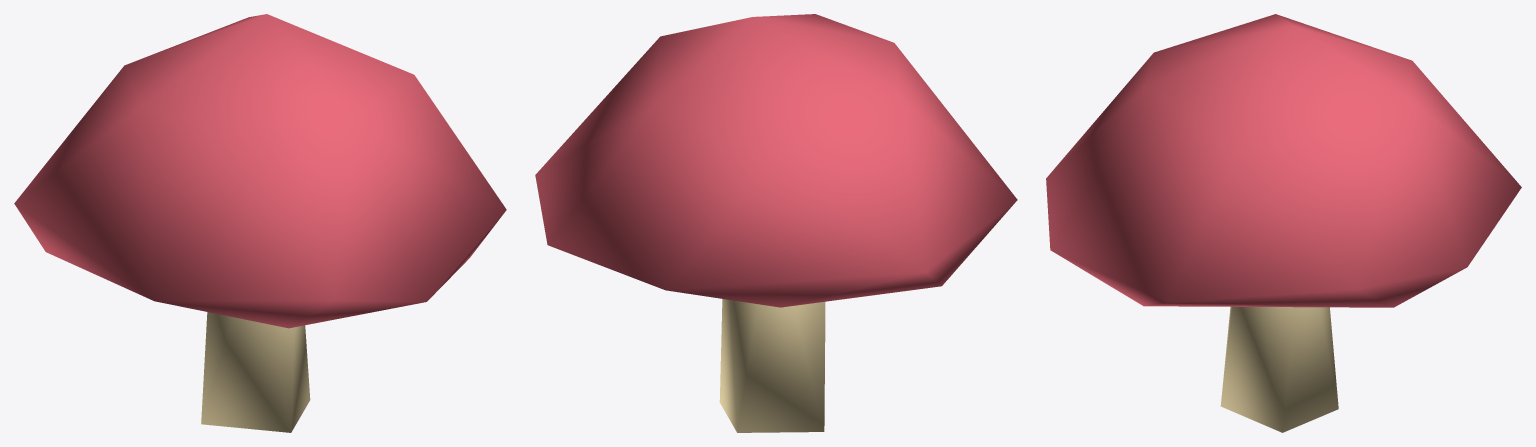
File: Mushroom_5.fbx
3 renders of one model, left to right at view 1: azimuth 30°, elevation 25°; view 2: azimuth 150°, elevation 25°; view 3: azimuth 270°, elevation 25°, orthographic. The views are drawn at different scales.
Visible parts, largest first — view 1: Mushroom_5; view 2: Mushroom_5; view 3: Mushroom_5.
Part boxes in pixels (x1,y1,x2,y2): Mushroom_5: [14, 14, 506, 432]; Mushroom_5: [535, 14, 1017, 432]; Mushroom_5: [1046, 14, 1521, 432].
Size of the model in its own units: 15.74 by 14.99 by 16.61.
